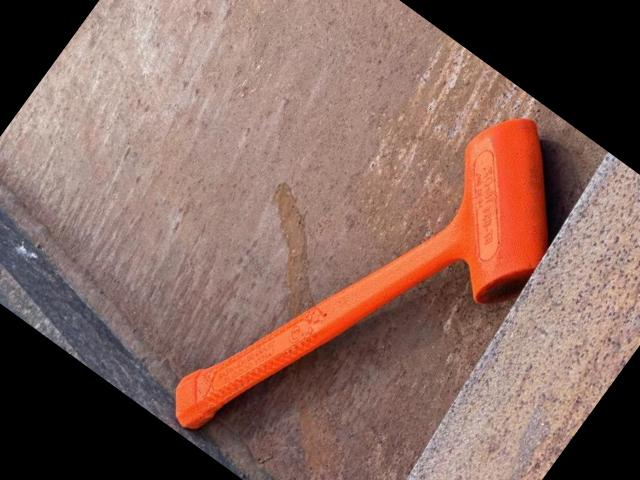hammer: (158, 40, 616, 480)
